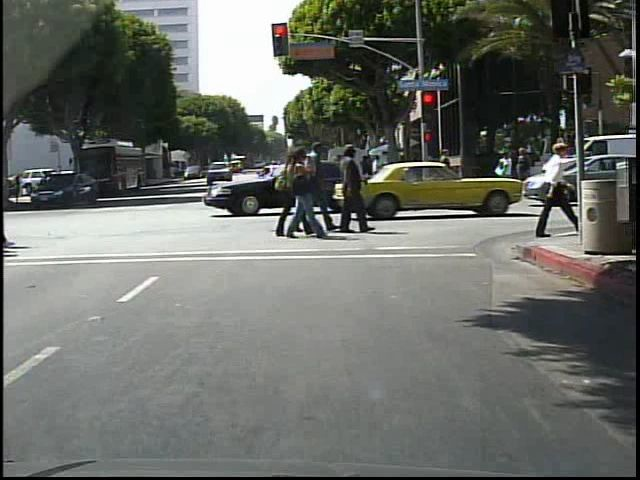person: (526, 140, 572, 245)
